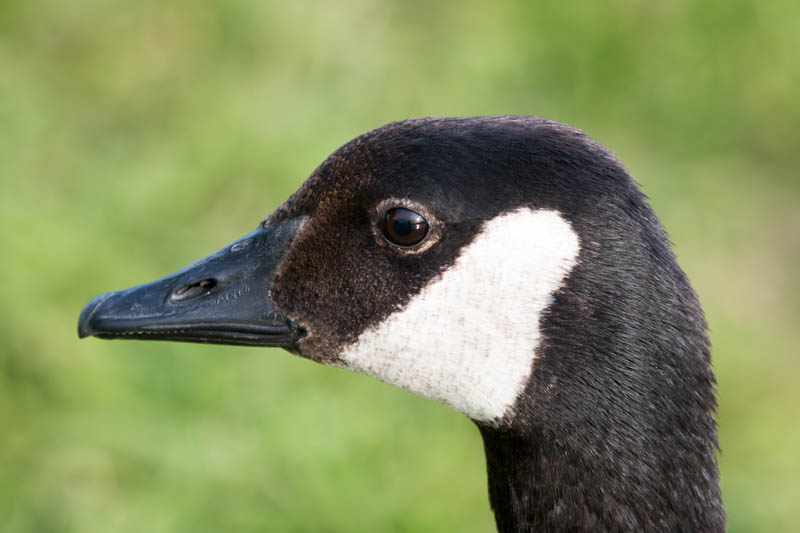goose-head: (77, 114, 716, 435)
